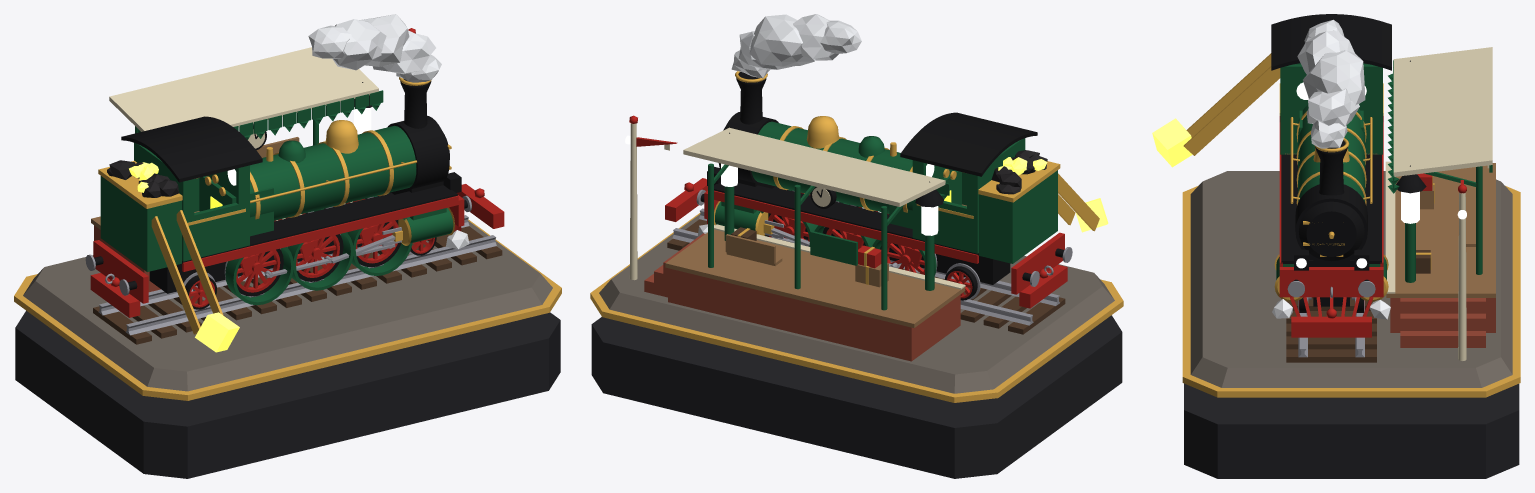
File: OreExpressMine_Roblox.fbx
3 renders of one model, left to right at view 1: azimuth 30°, elevation 25°; view 2: azimuth 150°, elevation 25°; view 3: azimuth 270°, elevation 25°, orthographic. The views are drawn at different scales.
Parts seen in each view (by area): view 1: SootIron, Ballast, EngineGreen, BlackPaint, Brass, StationCream, BufferRed, Steam, RailSteel, SleeperWood, ExpressOre, Coal; view 2: SootIron, Ballast, EngineGreen, BlackPaint, PlatformPlanks, StationCream, PlatformBrick, Brass, BufferRed, Steam, RailSteel, SleeperWood (+3 smaller); view 3: Ballast, SootIron, BlackPaint, StationCream, Brass, PlatformPlanks, EngineGreen, Steam, BufferRed, PlatformBrick, SleeperWood, ExpressOre (+2 smaller).
Boxes of the visible parts, x1=… form: SootIron: x1=15, y1=310, x2=560, y2=478; Ballast: x1=23, y1=221, x2=552, y2=391; EngineGreen: x1=100, y1=90, x2=453, y2=305; BlackPaint: x1=94, y1=78, x2=467, y2=309; Brass: x1=14, y1=77, x2=561, y2=400; StationCream: x1=109, y1=47, x2=378, y2=220; BufferRed: x1=90, y1=28, x2=504, y2=317; Steam: x1=308, y1=14, x2=469, y2=249; RailSteel: x1=85, y1=124, x2=496, y2=335; SleeperWood: x1=93, y1=226, x2=502, y2=344; ExpressOre: x1=129, y1=162, x2=239, y2=352; Coal: x1=105, y1=160, x2=179, y2=197; SootIron: x1=591, y1=315, x2=1122, y2=478; Ballast: x1=599, y1=214, x2=1114, y2=393; EngineGreen: x1=708, y1=121, x2=1057, y2=310; BlackPaint: x1=700, y1=72, x2=1064, y2=300; PlatformPlanks: x1=665, y1=204, x2=966, y2=327; StationCream: x1=629, y1=123, x2=965, y2=289; PlatformBrick: x1=644, y1=233, x2=960, y2=361; Brass: x1=590, y1=71, x2=1123, y2=402; BufferRed: x1=629, y1=115, x2=1067, y2=308; Steam: x1=697, y1=14, x2=861, y2=236; RailSteel: x1=672, y1=189, x2=1072, y2=325; SleeperWood: x1=667, y1=219, x2=1065, y2=334; Ballast: x1=1190, y1=171, x2=1512, y2=387; SootIron: x1=1184, y1=383, x2=1519, y2=478; BlackPaint: x1=1271, y1=14, x2=1426, y2=312; StationCream: x1=1385, y1=47, x2=1492, y2=360; Brass: x1=1182, y1=53, x2=1520, y2=397; PlatformPlanks: x1=1285, y1=153, x2=1495, y2=297; EngineGreen: x1=1276, y1=60, x2=1492, y2=282; Steam: x1=1272, y1=19, x2=1390, y2=319; BufferRed: x1=1279, y1=116, x2=1466, y2=337; PlatformBrick: x1=1390, y1=298, x2=1495, y2=347; SleeperWood: x1=1286, y1=250, x2=1430, y2=362; ExpressOre: x1=1152, y1=118, x2=1192, y2=167.
Bounding box in the file's own units: 1508 × 1264 × 1099.
